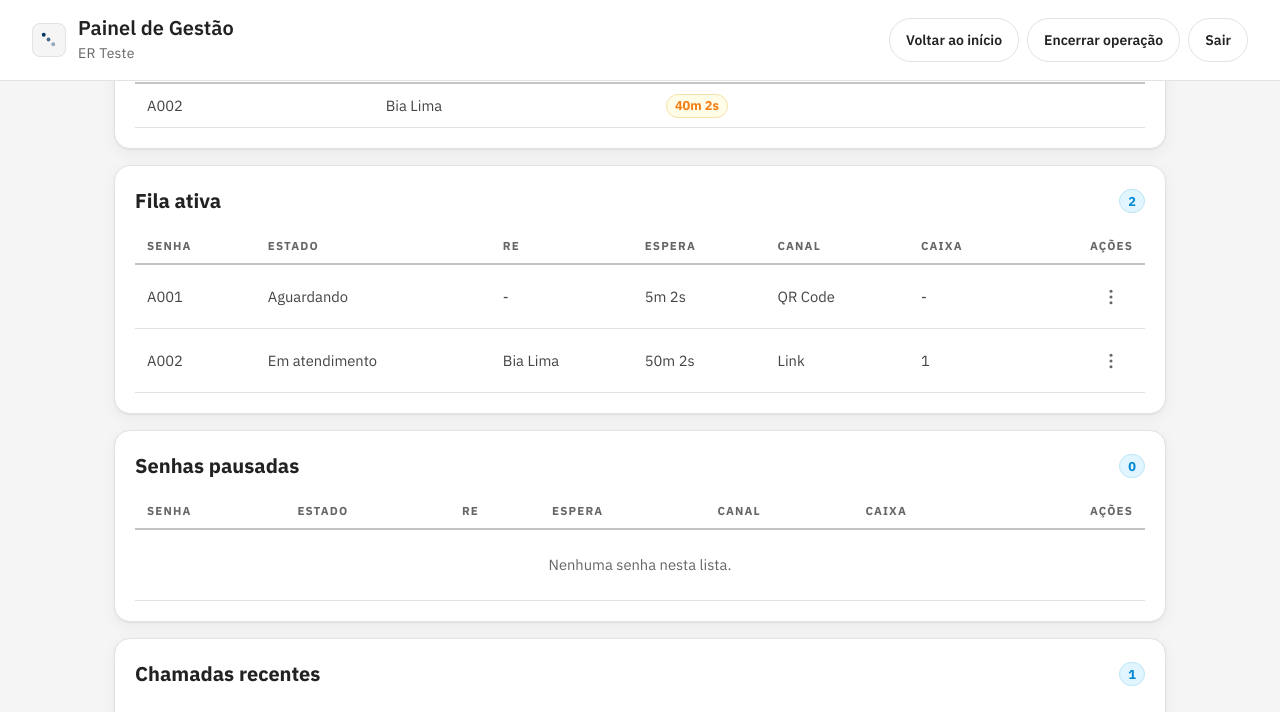
it: ManagerPage › offers attendance correction (not /cancel) for a ticket already in service
(page scrolled)
Click the button named "Ações da senha A002".
click(1111, 361)  # box 1089,339 -> 1133,383
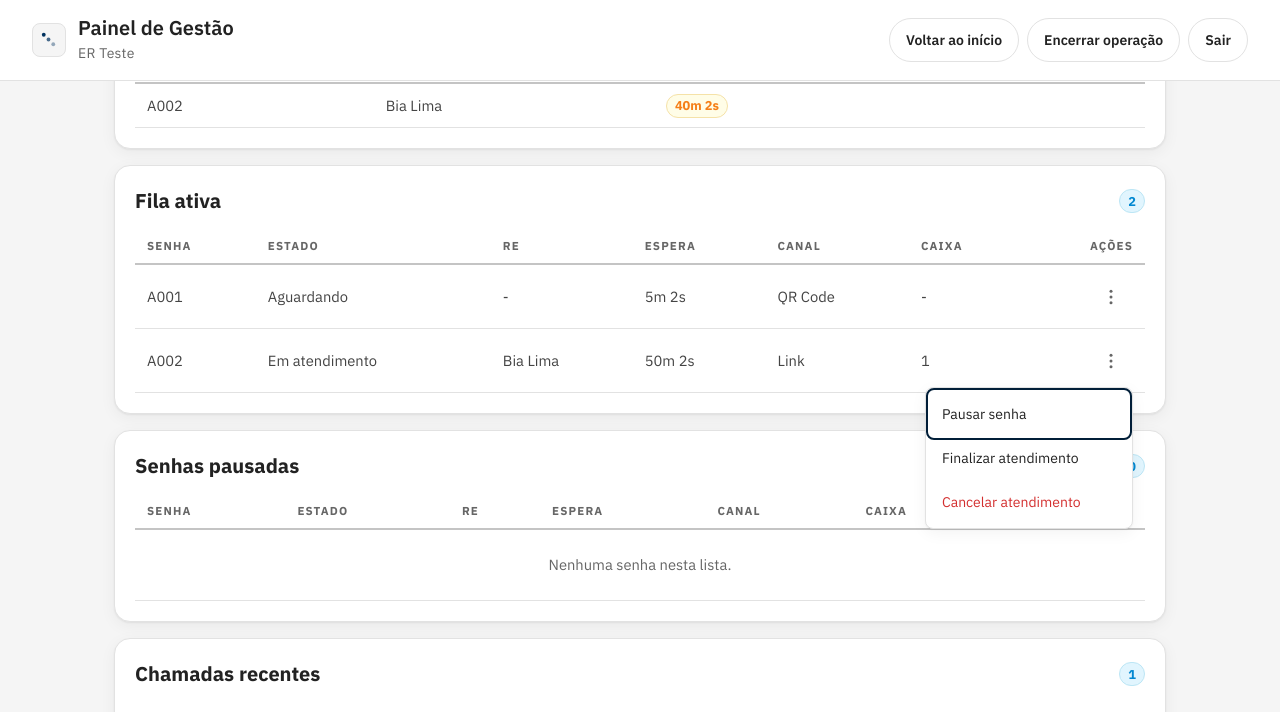
Now the menu item "Finalizar atendimento" is shown, box 930,436 -> 1128,480
Now the menu item "Cancelar atendimento" is shown, box 930,480 -> 1128,524
